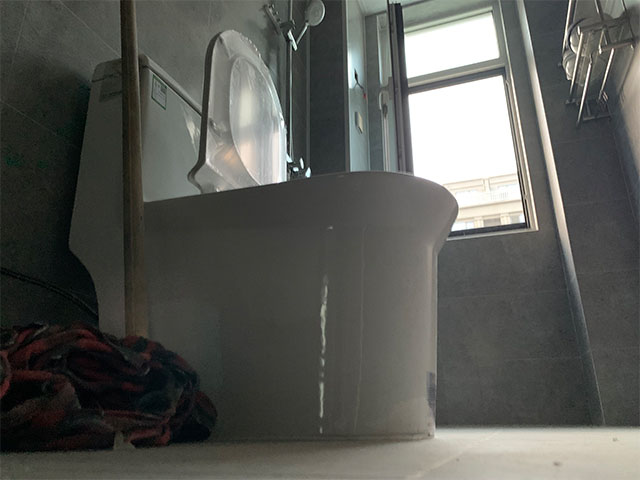closestool: (68, 27, 460, 448)
